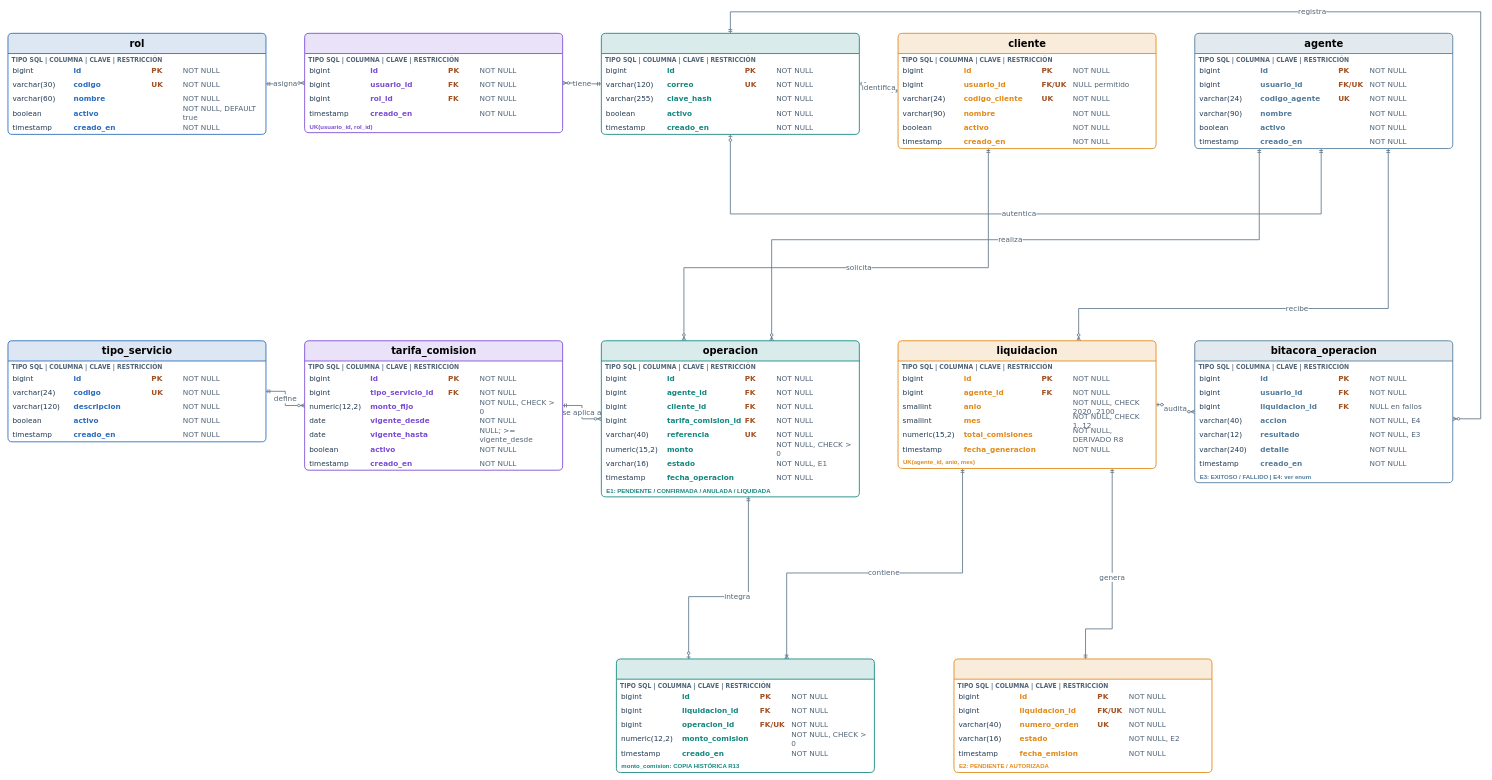
The diagram is 1492 pixels wide and 780 high, and some of its shapes have lost their labels. Each missing label, with the box of its shape:
detalle_liquidacion: (616, 658, 875, 773)
orden_pago: (953, 658, 1212, 773)
usuario: (601, 33, 860, 135)
usuario_rol: (304, 33, 563, 133)
